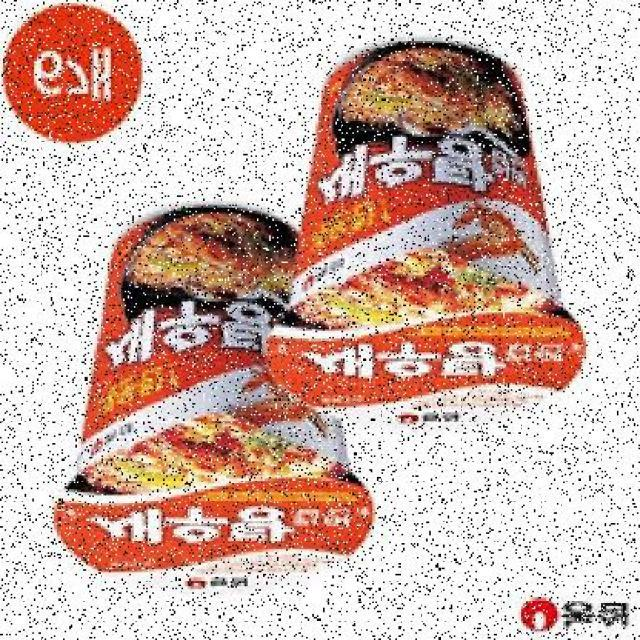Miscellaneous: (62, 204, 376, 600), (274, 43, 574, 429)
